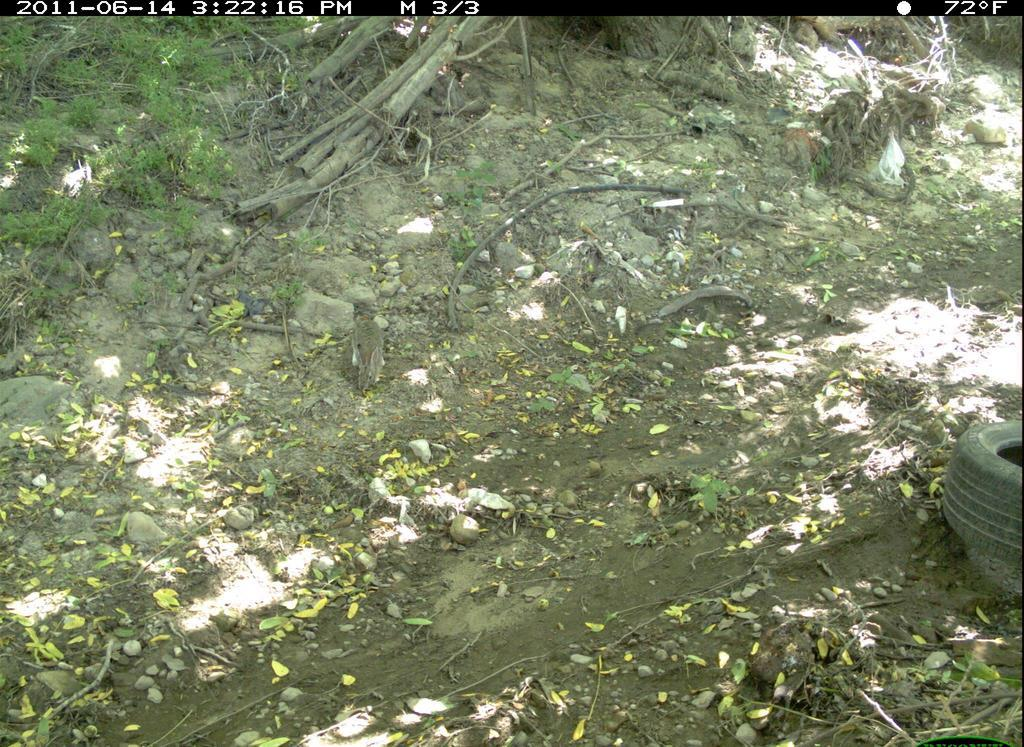rabbit: (332, 296, 410, 404)
